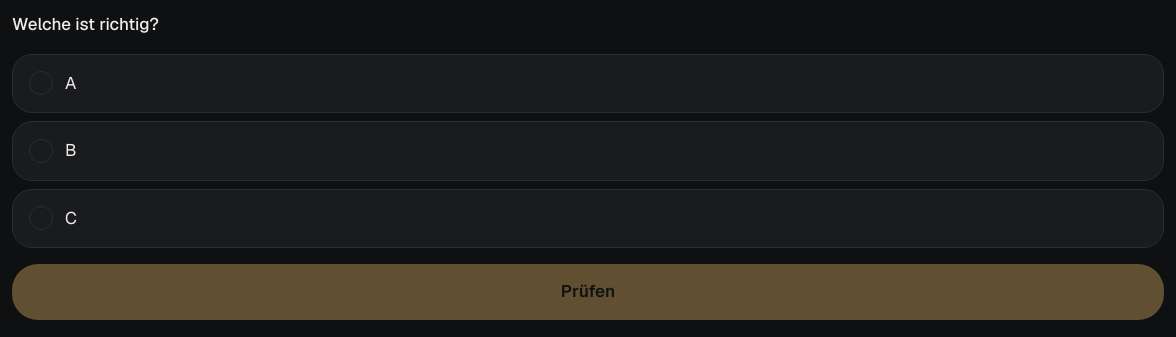
Test case: Übungsmodus löst weiterhin auf › McCard zeigt die Erklärung
What coordinates should you click on to do the following:
click the button "A"
I would click on:
 (41, 83)
Its box is x1=12 y1=54 x2=1164 y2=113.
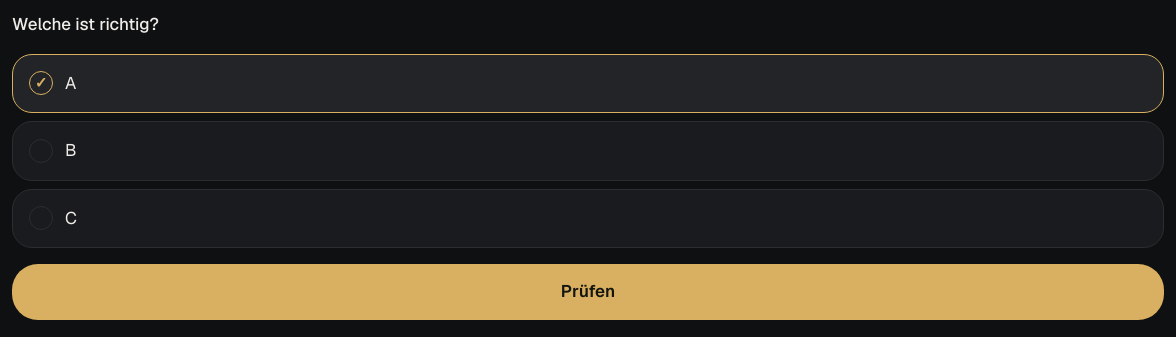
What coordinates should you click on to do the following:
click the button "Prüfen"
I would click on:
 (588, 292)
Its box is x1=12 y1=264 x2=1164 y2=320.
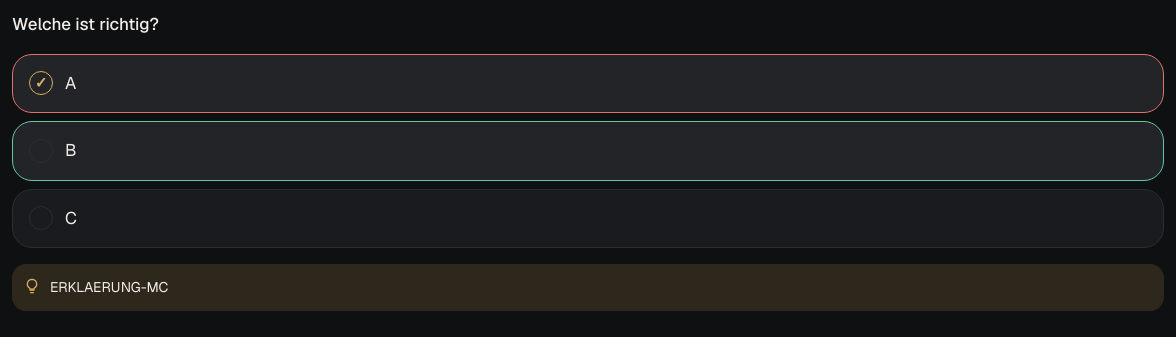
Expected: the text "ERKLAERUNG-MC" is shown, x1=50 y1=276 x2=168 y2=299
